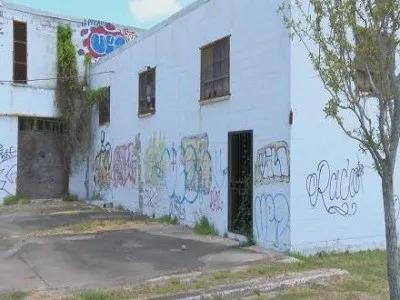graffiti: (135, 137, 225, 224), (249, 140, 290, 247), (88, 127, 145, 200), (303, 154, 368, 217), (78, 21, 135, 60), (0, 144, 15, 195)
